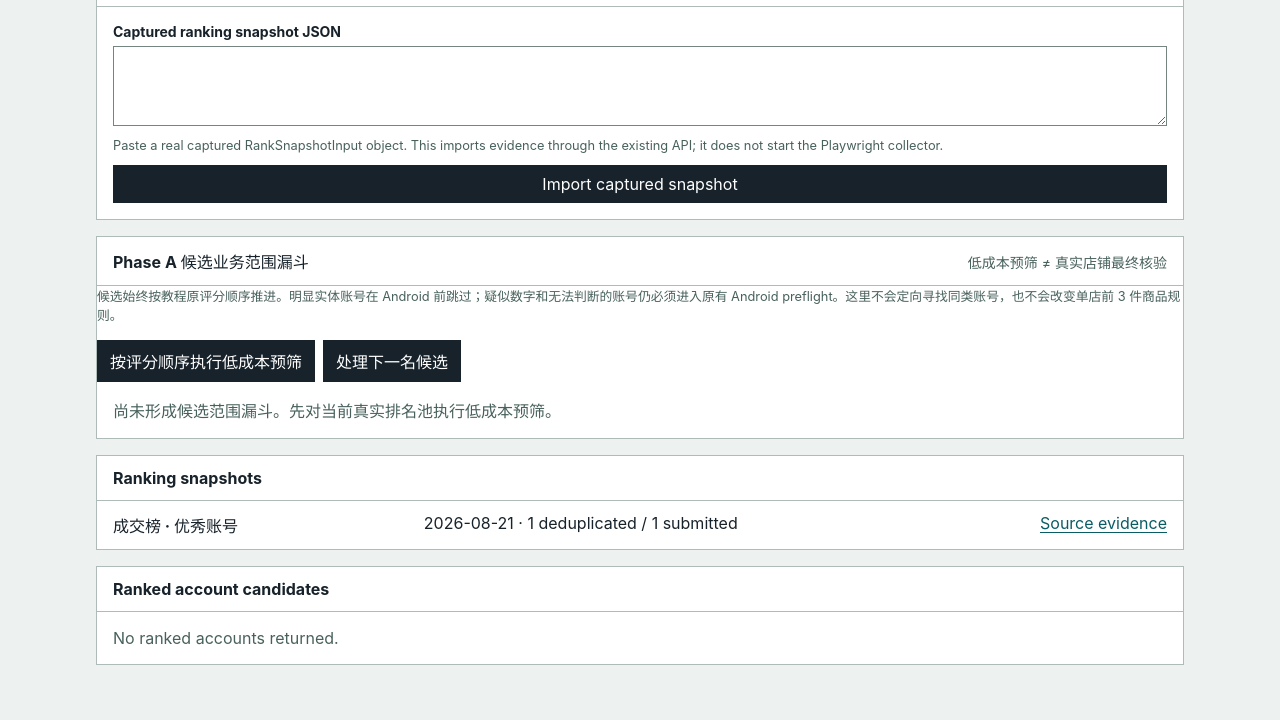
Test: RadarPage › runs prescreen and advances only the system-selected next ranked candidate
(page scrolled)
Expected: the heading "Phase A 候选业务范围漏斗" is shown, [113,249,309,273]
What coordinates should you click on to do the following:
click the button "按评分顺序执行低成本预筛"
I would click on:
 (206, 361)
Its box is [97,340,315,382].
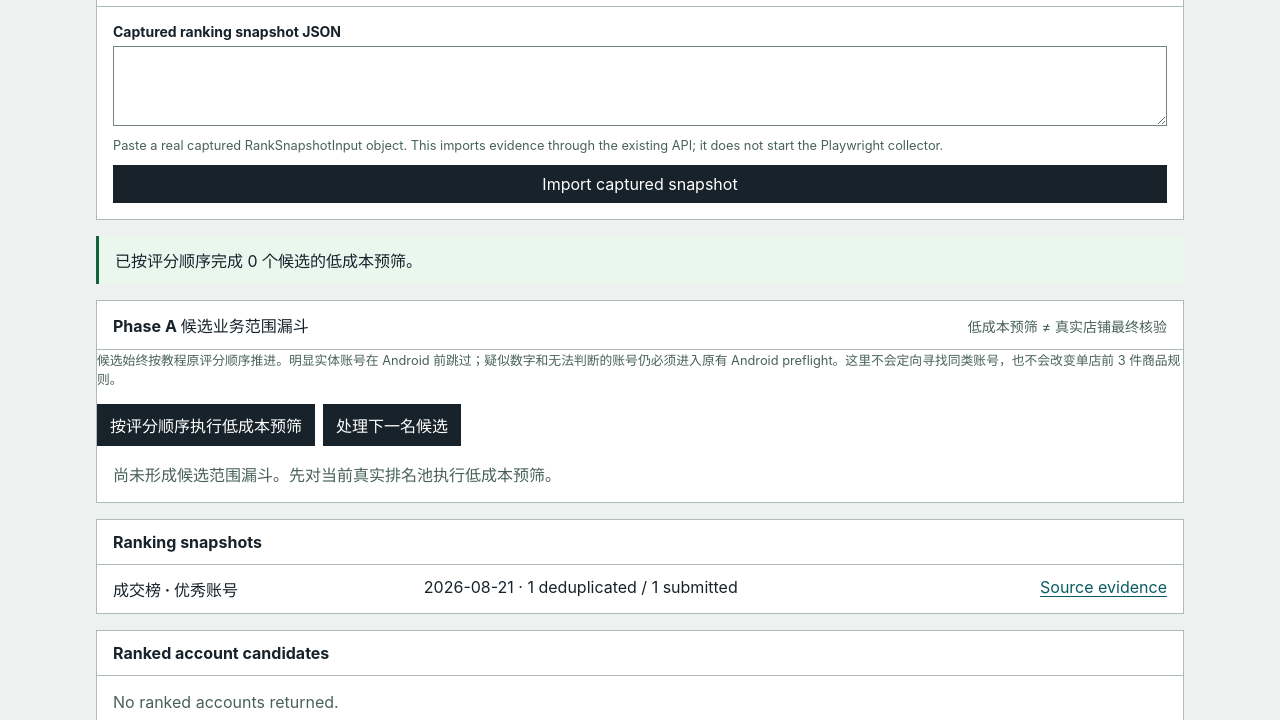
What coordinates should you click on to do the following:
click the button "处理下一名候选"
I would click on:
 (392, 425)
Its box is [323,404,461,446].
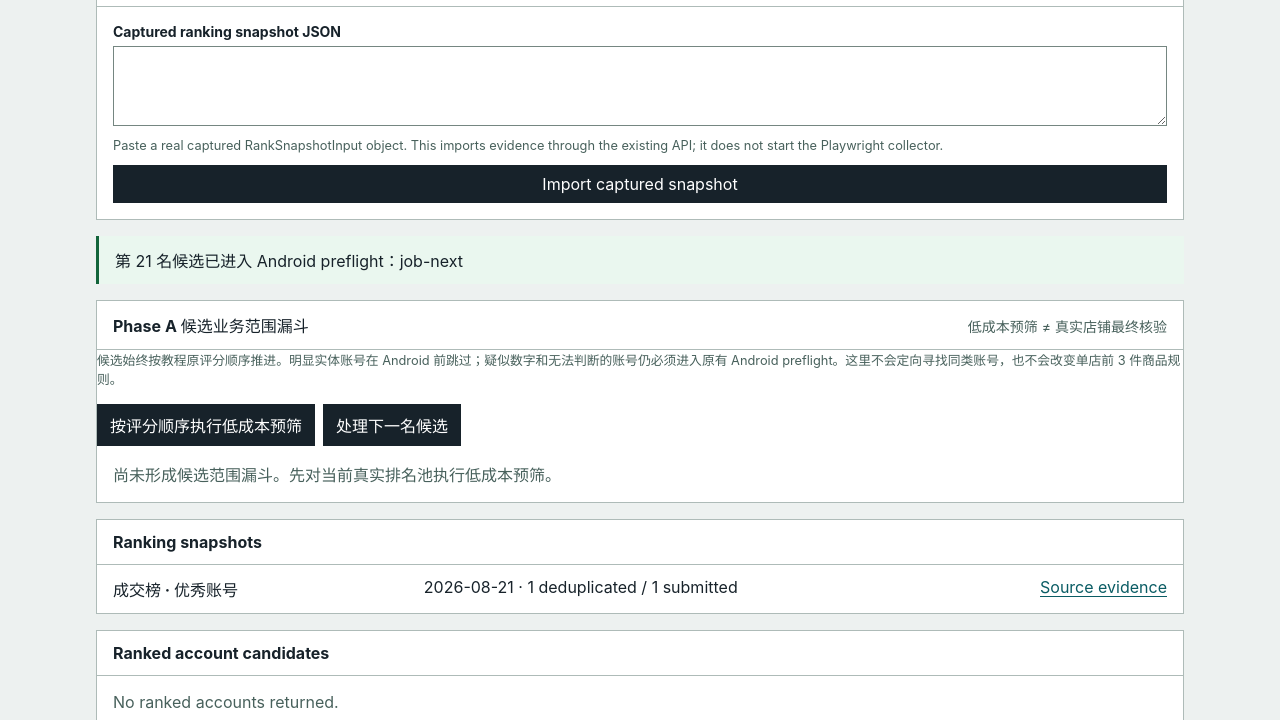
Expected: the text "第 21 名候选已进入 Android preflight：job-next" is shown, [96,236,1184,284]
